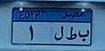1: (27, 24, 35, 42)
Taa: (66, 26, 77, 43)
baa: (77, 28, 89, 42)
laam: (53, 24, 64, 42)
